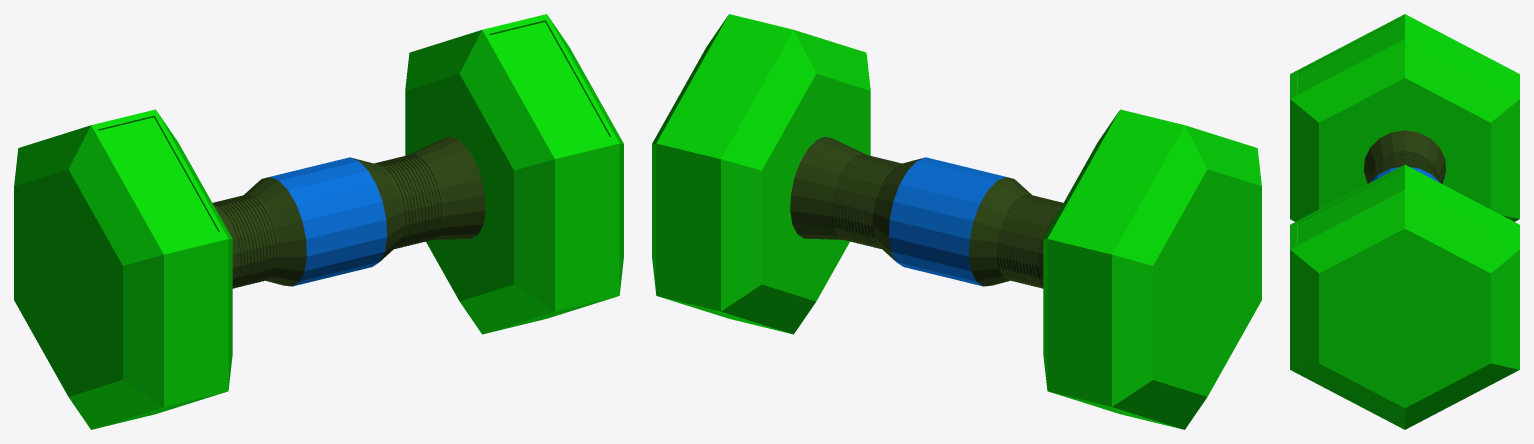
3 renders of one model, left to right at view 1: azimuth 30°, elevation 25°; view 2: azimuth 150°, elevation 25°; view 3: azimuth 270°, elevation 25°, orthographic. The views are drawn at different scales.
Visible parts, largest first — view 1: geo1; view 2: geo1; view 3: geo1.
Part boxes in pixels (x1=…): geo1: x1=14, y1=14, x2=623, y2=429; geo1: x1=652, y1=14, x2=1261, y2=429; geo1: x1=1290, y1=14, x2=1519, y2=429.
Bounding box in the file's own units: 3.1 × 1.8 × 1.56.
